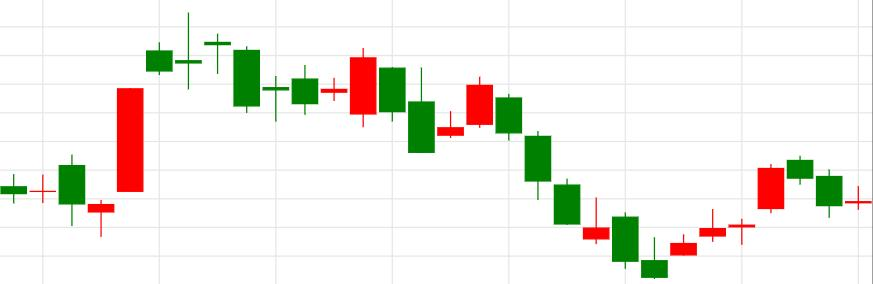three_black_crows_fall: (407, 67, 581, 227)
